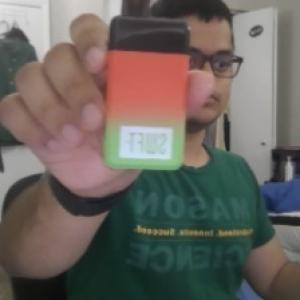Swift-E-Ciggirate: (101, 4, 191, 174)
